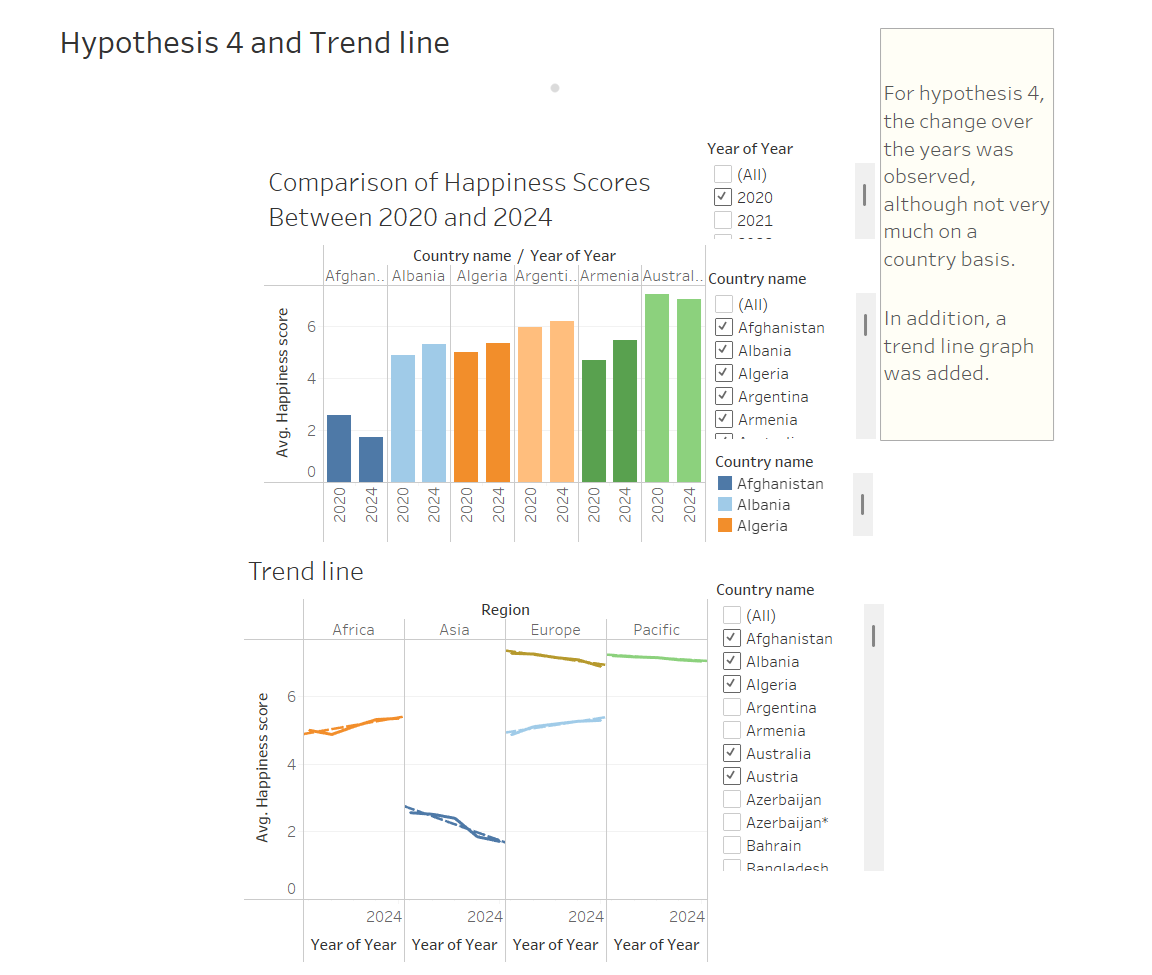

The dashboard page shown, as its layout file describes it:
{"tool":"tableau","page":{"name":"Dashboard 4","canvas":[650,860],"ordinal":3},"visuals":[{"type":"filter","title":"Comparison of Happiness Scores Between 2020 and 2024","param":"[federated.1b23h6n1s7urv9188s8hf1c6z70u].[yr:Year:ok]","box":[476,12.9,168,102.9]},{"type":"worksheet","title":"Comparison of Happiness Scores Between 2020 and 2024","mark":"Bar","rows":["Happiness_score"],"cols":["Country_name","Year"],"box":[33,35.4,442,390.3]},{"type":"filter","title":"Comparison of Happiness Scores Between 2020 and 2024","param":"[federated.1b23h6n1s7urv9188s8hf1c6z70u].[none:Country_name:nk]","box":[477,145.8,168,174.8]},{"type":"legend","title":"Comparison of Happiness Scores Between 2020 and 2024","param":"[federated.1b23h6n1s7urv9188s8hf1c6z70u].[none:Country_name:nk]","box":[484,332.4,160,86.9]},{"type":"worksheet","title":"Trend line","mark":"Automatic","rows":["Happiness_score"],"cols":["Calculation_1024568971831394304","Year"],"box":[13,432.1,464,422.5]},{"type":"filter","title":"Trend line","param":"[federated.1b23h6n1s7urv9188s8hf1c6z70u].[none:Country_name:nk]","box":[485,463.2,168,298.1]}]}

Visuals, with their boxes on the page's 650x860 design canvas (x1, y1, x2, y2). These are canvas units, not pixel positions in the 1152x975 screenshot, which may show the page scaled, cropped or inside an application window:
"Comparison of Happiness Scores Between 2020 and 2024" filter: {"x1": 476, "y1": 13, "x2": 644, "y2": 116}
"Comparison of Happiness Scores Between 2020 and 2024" worksheet (Bar marks): {"x1": 33, "y1": 35, "x2": 475, "y2": 426}
"Comparison of Happiness Scores Between 2020 and 2024" filter: {"x1": 477, "y1": 146, "x2": 645, "y2": 321}
"Comparison of Happiness Scores Between 2020 and 2024" legend: {"x1": 484, "y1": 332, "x2": 644, "y2": 419}
"Trend line" worksheet: {"x1": 13, "y1": 432, "x2": 477, "y2": 855}
"Trend line" filter: {"x1": 485, "y1": 463, "x2": 653, "y2": 761}
